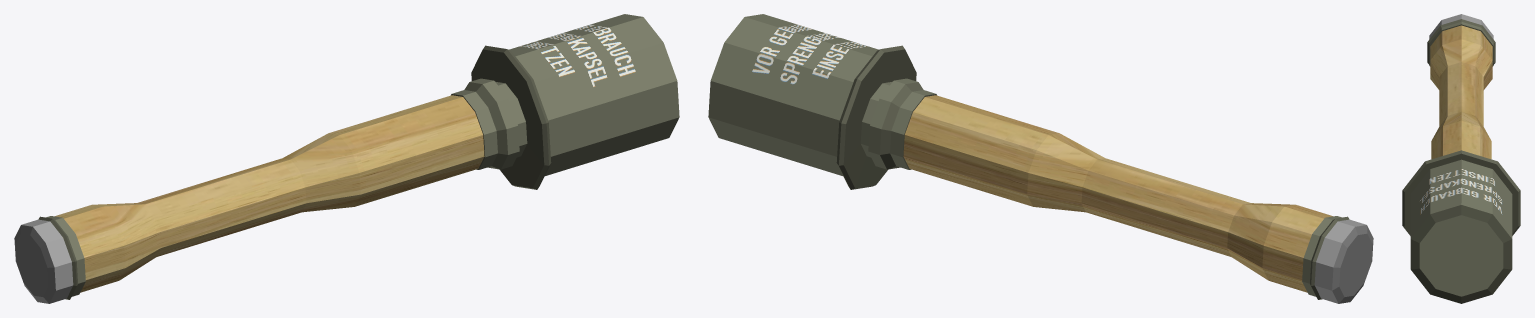
The model's file is WorldItem_Stielhandgranate.fbx.
The picture shows the model from 3 angles, left to right: view 1: azimuth 30°, elevation 25°; view 2: azimuth 150°, elevation 25°; view 3: azimuth 270°, elevation 25°; orthographic projection. The views are drawn at different scales.
Visible parts, largest first — view 1: ZomboidStielhandgranate; view 2: ZomboidStielhandgranate; view 3: ZomboidStielhandgranate.
Part boxes in pixels (x1,y1,x2,y2): ZomboidStielhandgranate: (14,14,679,303); ZomboidStielhandgranate: (708,14,1373,303); ZomboidStielhandgranate: (1402,14,1520,303).
Size of the model in its own units: 0.2957 by 0.0632 by 0.0602.
